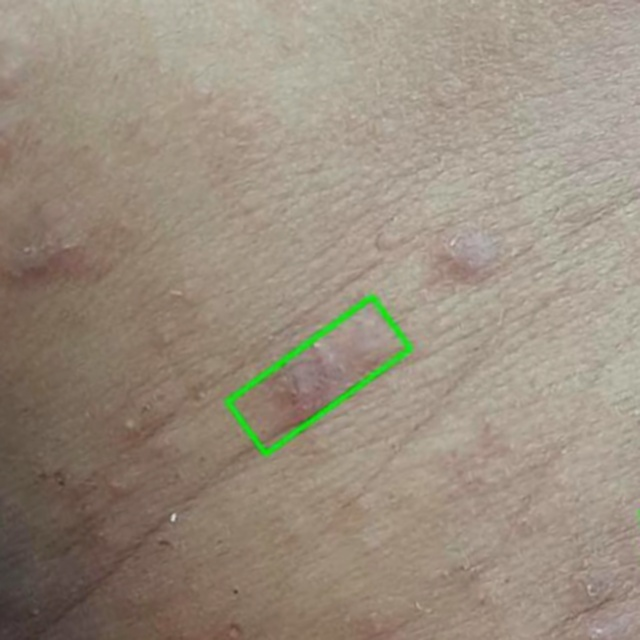Scabies: (226, 297, 409, 454)
